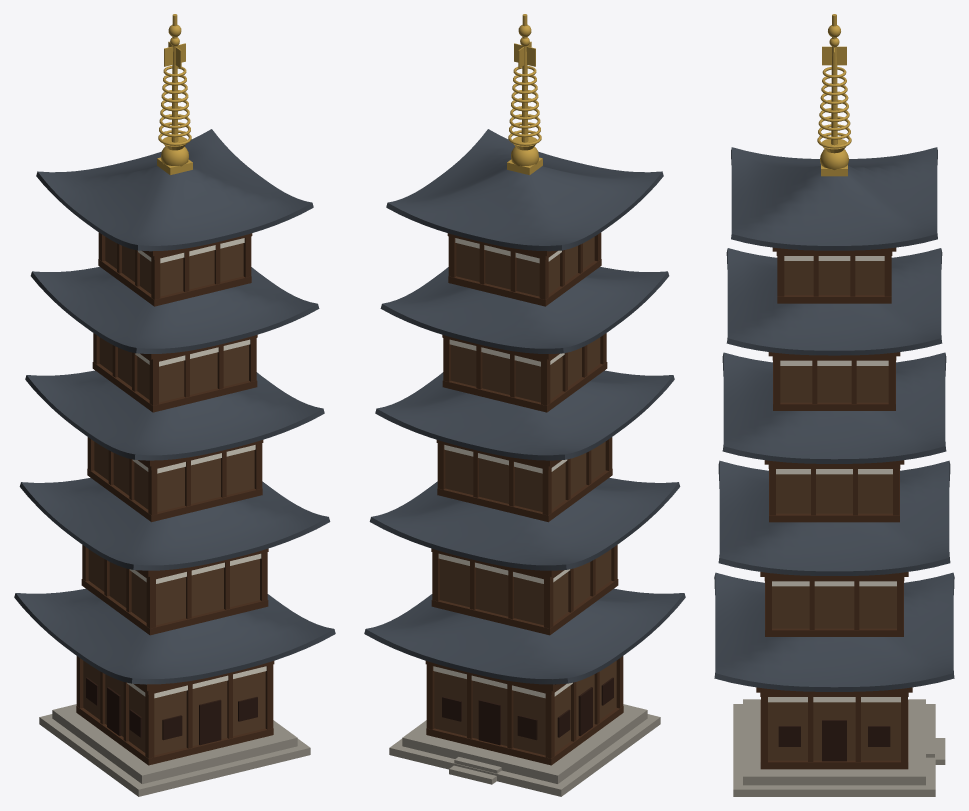
The model's file is toji-pagoda.glb.
The picture shows the model from 3 angles, left to right: view 1: azimuth 30°, elevation 25°; view 2: azimuth 150°, elevation 25°; view 3: azimuth 270°, elevation 25°; orthographic projection.
Parts seen in each view (by area): view 1: PagodaRoof, PagodaWall, PagodaWood, PagodaStone, PagodaGold, PagodaWoodDark, PagodaPlaster; view 2: PagodaRoof, PagodaWall, PagodaWood, PagodaStone, PagodaGold, PagodaWoodDark, PagodaPlaster; view 3: PagodaRoof, PagodaWall, PagodaWood, PagodaStone, PagodaGold, PagodaPlaster, PagodaWoodDark.
Part boxes in pixels (x1,y1,x2,y2): PagodaRoof: (14, 129, 335, 684); PagodaWall: (83, 237, 265, 755); PagodaWood: (76, 232, 274, 765); PagodaStone: (39, 704, 310, 796); PagodaGold: (157, 14, 192, 175); PagodaWoodDark: (86, 677, 257, 745); PagodaPlaster: (127, 238, 266, 698); PagodaRoof: (364, 129, 685, 684); PagodaWall: (434, 237, 616, 755); PagodaWood: (425, 232, 623, 765); PagodaStone: (389, 704, 660, 796); PagodaGold: (507, 14, 542, 175); PagodaWoodDark: (442, 677, 613, 745); PagodaPlaster: (433, 238, 572, 698); PagodaRoof: (714, 147, 954, 691); PagodaWall: (768, 261, 900, 760); PagodaWood: (756, 247, 912, 769); PagodaStone: (733, 699, 945, 796); PagodaGold: (817, 14, 851, 176); PagodaPlaster: (768, 256, 900, 702); PagodaWoodDark: (778, 720, 890, 761).
Bounding box in the file's own units: 16.13 × 54.8 × 16.13.
